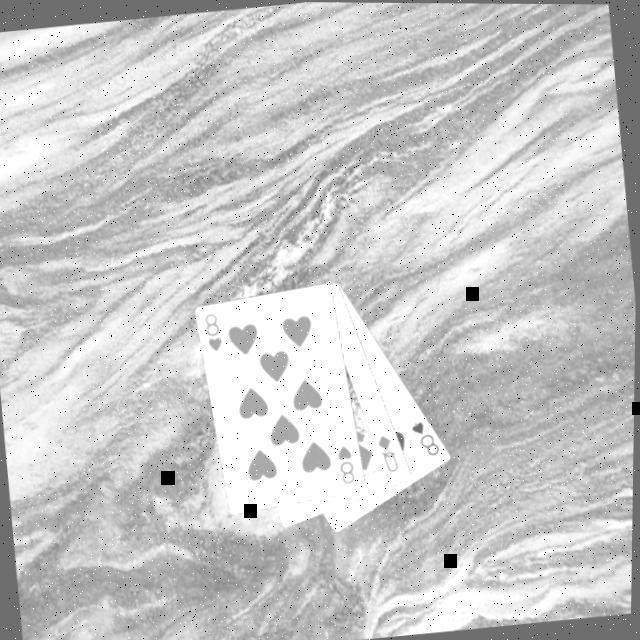8H: (335, 441, 363, 489), (203, 310, 231, 357)
8S: (411, 416, 448, 461)
QD: (375, 431, 406, 478)
